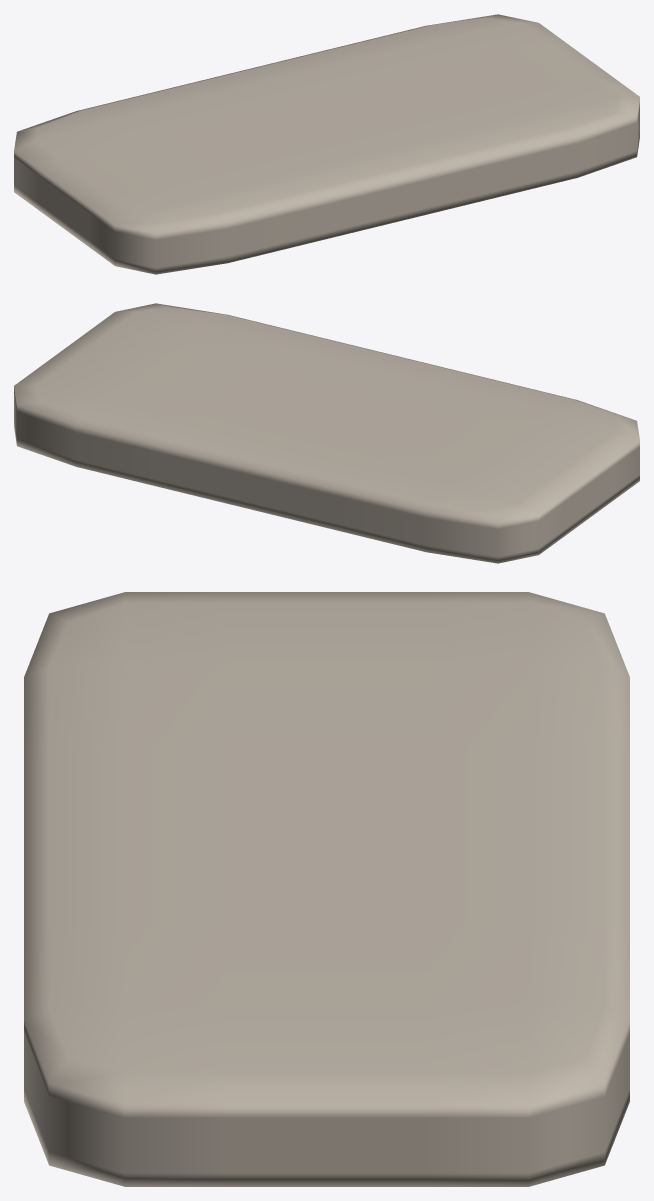
File: Bed.fbx
The picture shows the model from 3 angles, top to bottom: view 1: azimuth 30°, elevation 25°; view 2: azimuth 150°, elevation 25°; view 3: azimuth 270°, elevation 25°; orthographic projection. The views are drawn at different scales.
Parts seen in each view (by area): view 1: pCube1; view 2: pCube1; view 3: pCube1.
Part boxes in pixels (box(x1,y1,x2,y2)): pCube1: box(14, 14, 639, 274); pCube1: box(14, 303, 639, 563); pCube1: box(24, 592, 629, 1186).
Bounding box in the file's own units: 200 × 20 × 100.
